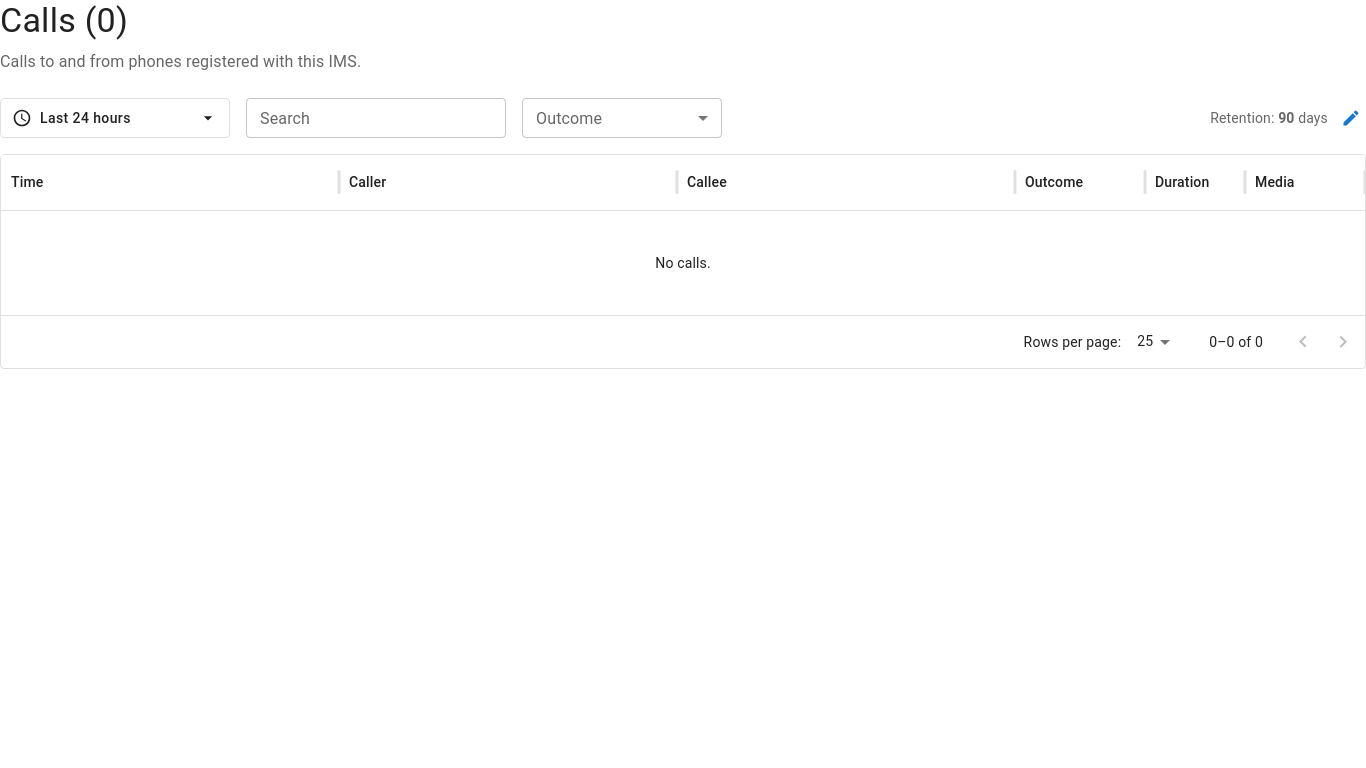
Calls › edits the retention
expect the text "Retention: 90 days" is shown: met, box [1210,108,1328,128]
Click the button named "edit call record retention" at (1351, 118), box [1336,103,1365,133]
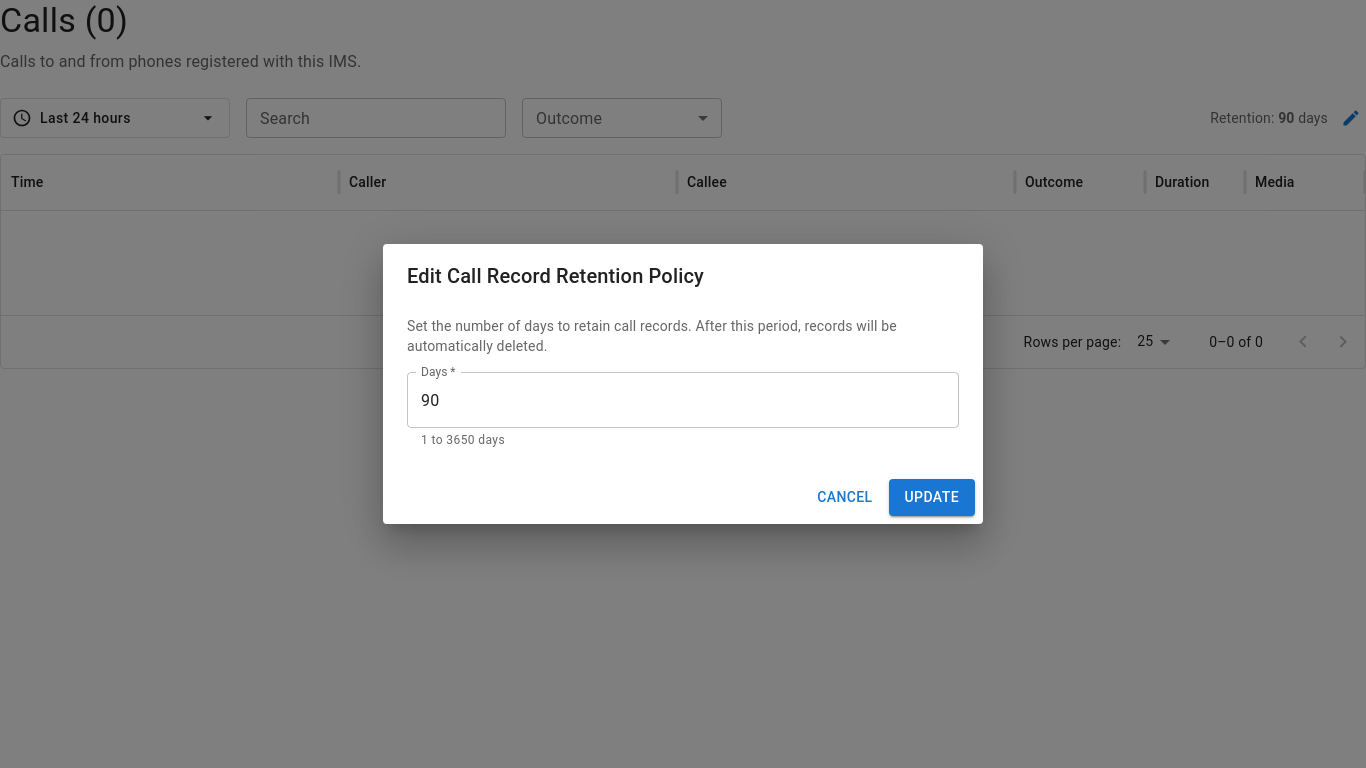
Replace the text in the field labelled "Days" with "0" at (683, 400), box [407,372,959,428]
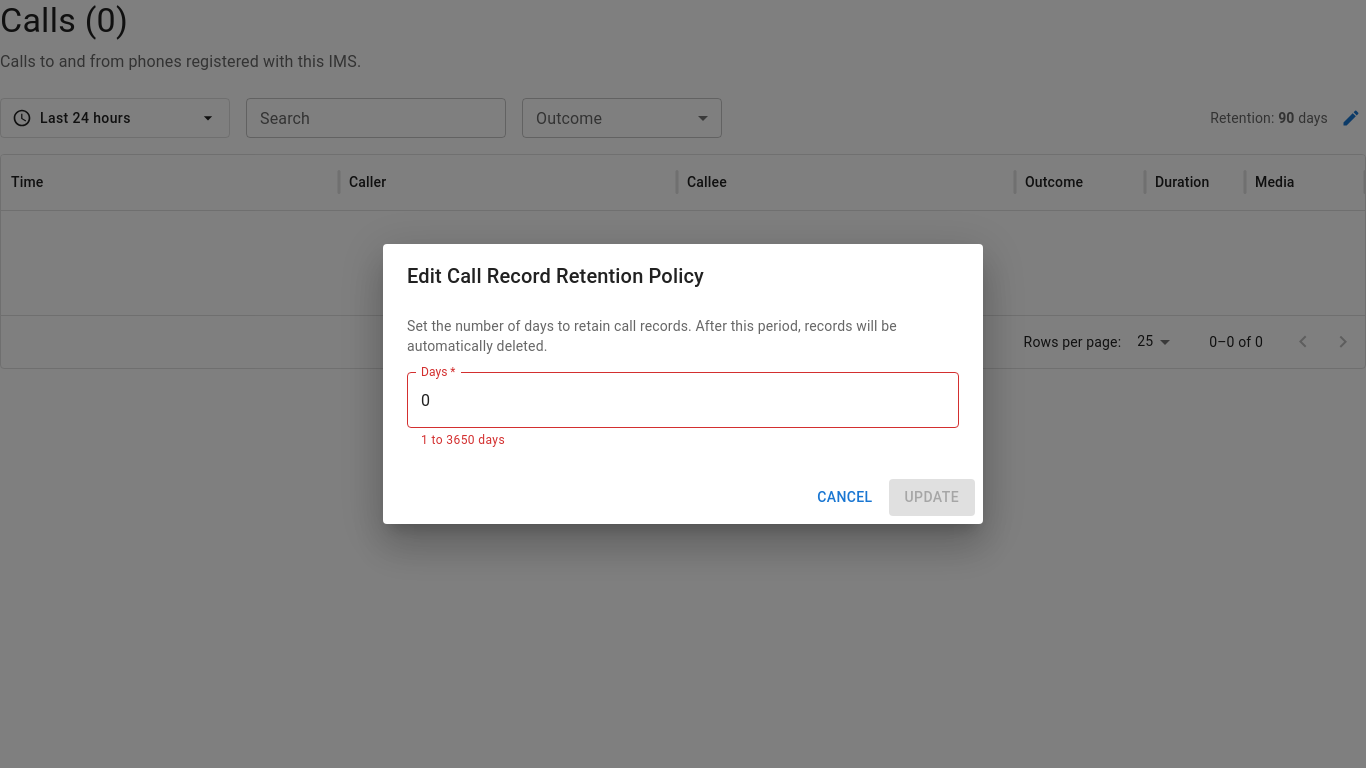
expect the button "Update" is disabled: met, box [889,479,975,516]
Replace the text in the field labelled "Days" with "30" at (683, 400), box [407,372,959,428]
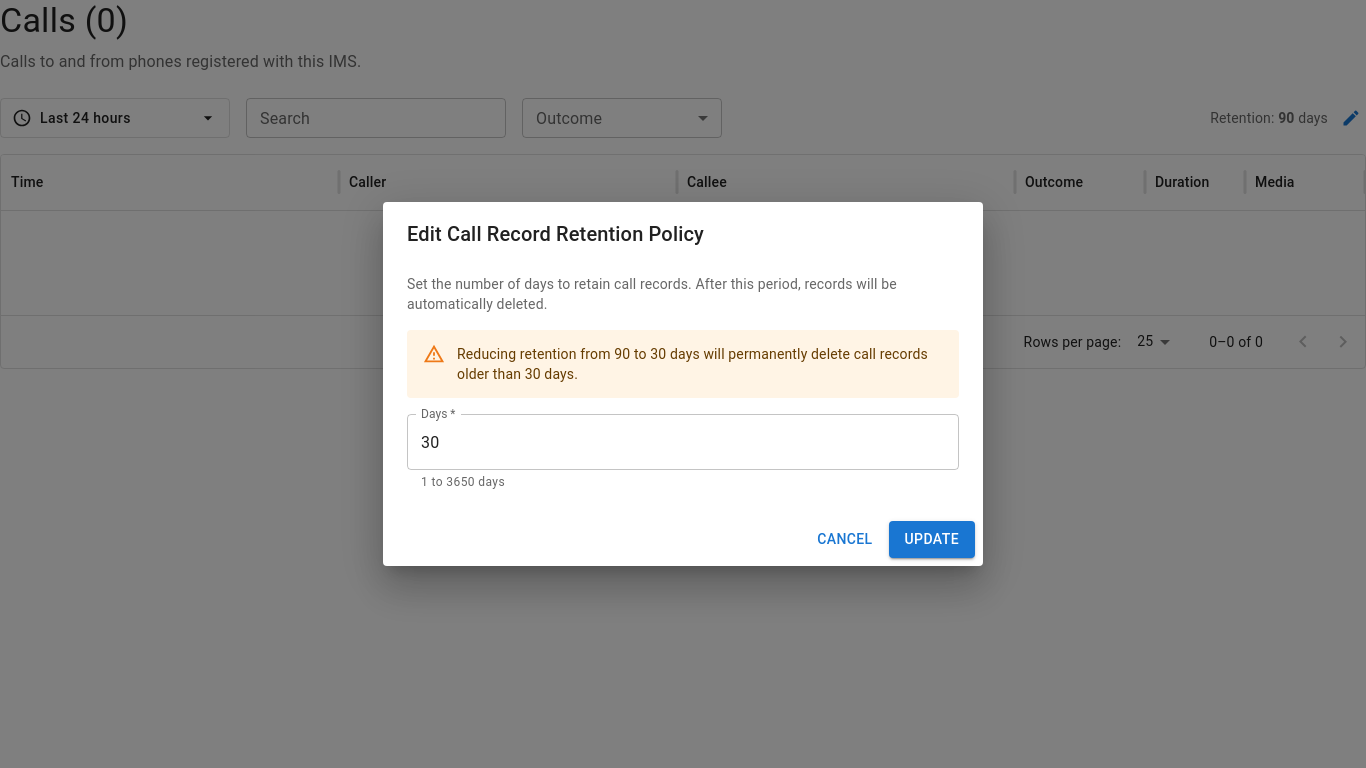
expect the text "Reducing retention from 90 to 30 days" is shown: met, box [457,336,943,392]
Click the button "Update" at (932, 539), box [889,521,975,558]
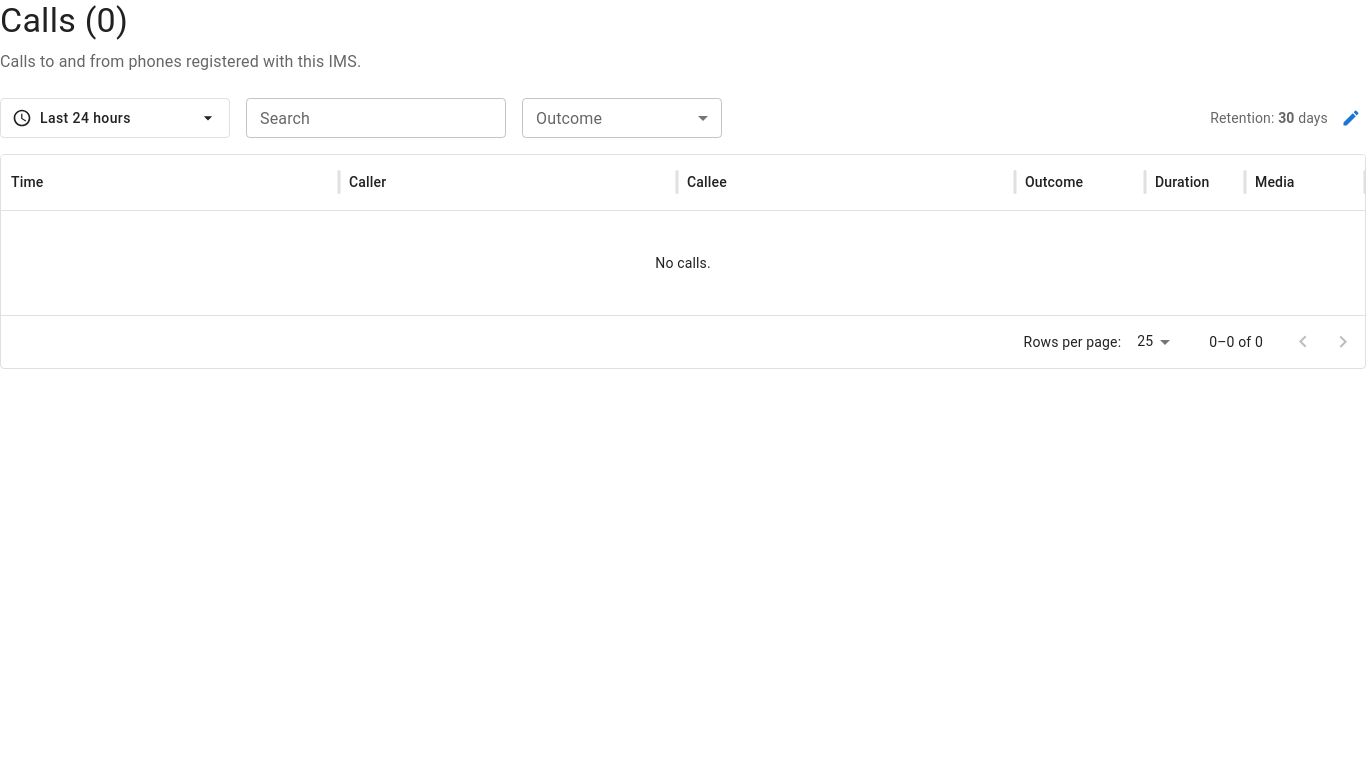
expect the text "Retention: 30 days" is shown: met, box [1210,108,1328,128]
